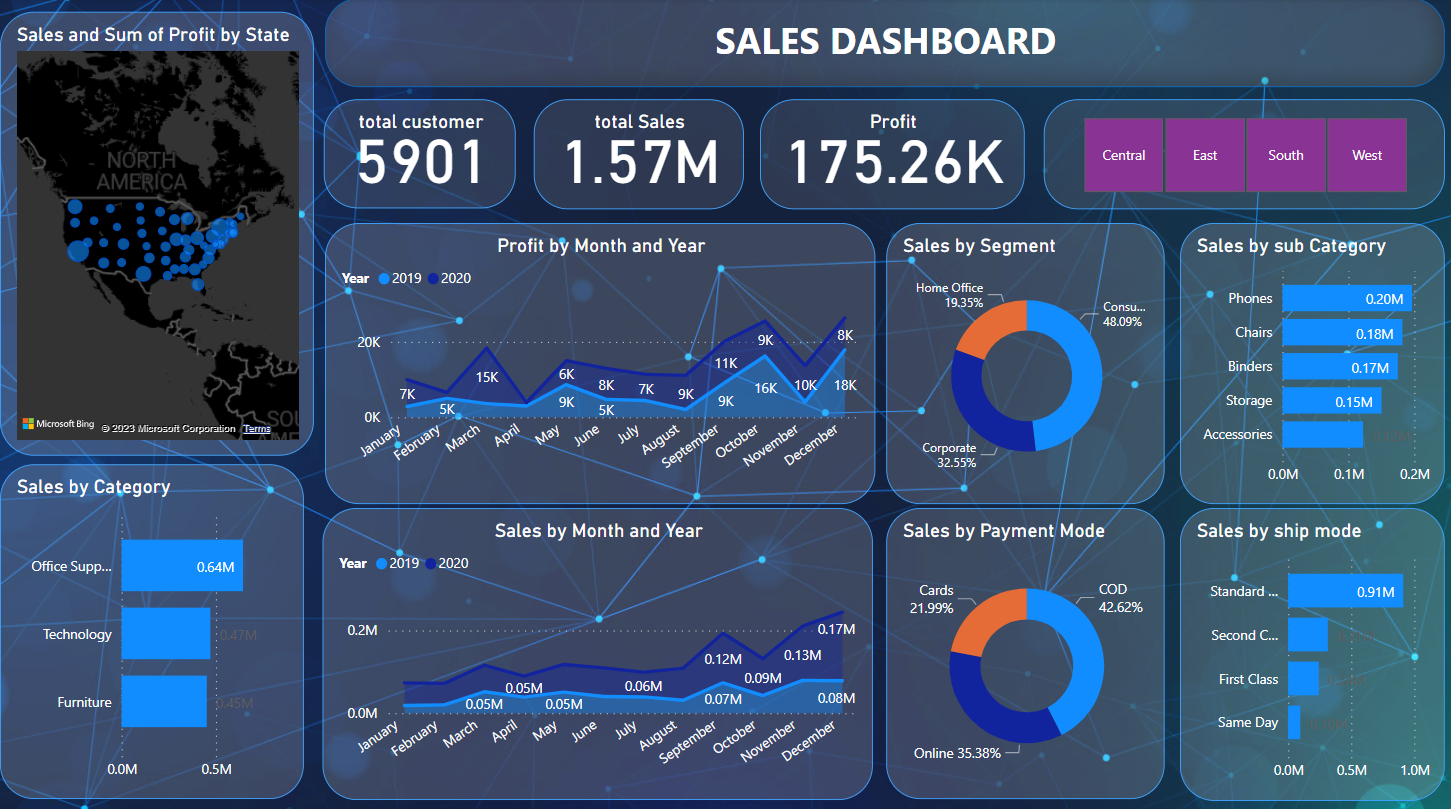

The page's visual inventory and layout, read from the dashboard file:
{"tool":"powerbi","page":{"name":"Page 1","canvas":[1280,720],"ordinal":0},"visuals":[{"type":"barChart","title":" Sales by Category","fields":{"Category":["SuperStore_Sales_Dataset.Category"],"Y":["Sum(SuperStore_Sales_Dataset.Sales)"]},"box":[0,410,267.1,294.6],"z":0},{"type":"barChart","title":" Sales by ship mode","fields":{"Category":["SuperStore_Sales_Dataset.Ship Mode"],"Y":["Sum(SuperStore_Sales_Dataset.Sales)"]},"box":[1037.7,448.5,233,257.2],"z":1000},{"type":"barChart","title":" Sales by sub Category","fields":{"Category":["SuperStore_Sales_Dataset.Sub-Category"],"Y":["Sum(SuperStore_Sales_Dataset.Sales)"]},"box":[1037.7,197.9,233,247.3],"z":2000},{"type":"stackedAreaChart","title":" Sales by Month and Year","fields":{"Y":["Sum(SuperStore_Sales_Dataset.Sales)"],"Category":["SuperStore_Sales_Dataset.Order Date.Variation.Date Hierarchy.Month"],"Series":["SuperStore_Sales_Dataset.Order Date.Variation.Date Hierarchy.Year"]},"box":[284,448.7,484.4,256.6],"z":3000},{"type":"stackedAreaChart","title":" Profit by Month and Year","fields":{"Category":["SuperStore_Sales_Dataset.Order Date.Variation.Date Hierarchy.Month"],"Series":["SuperStore_Sales_Dataset.Order Date.Variation.Date Hierarchy.Year"],"Y":["Sum(SuperStore_Sales_Dataset.Profit)"]},"box":[285.4,197.6,484.4,247],"z":4000},{"type":"map","title":" Sales and Sum of Profit by State","fields":{"Category":["SuperStore_Sales_Dataset.State"],"Size":["Sum(SuperStore_Sales_Dataset.Sales)"]},"box":[0,12.1,275.9,390.2],"z":5000},{"type":"donutChart","title":" Sales by Segment","fields":{"Category":["SuperStore_Sales_Dataset.Segment"],"Y":["Sum(SuperStore_Sales_Dataset.Sales)"]},"box":[779.4,197.9,245.1,247.3],"z":6000},{"type":"donutChart","title":" Sales by Payment Mode","fields":{"Category":["SuperStore_Sales_Dataset.Payment Mode"],"Y":["Sum(SuperStore_Sales_Dataset.Sales)"]},"box":[779.4,448.5,245.1,256.1],"z":7000},{"type":"slicer","fields":{"Values":["SuperStore_Sales_Dataset.Region"]},"box":[917.9,89,352.9,96.7],"z":8000},{"type":"card","title":"total  customer","fields":{"Values":["CountNonNull(SuperStore_Sales_Dataset.Customer ID)"]},"box":[284.4,89.3,169,96.4],"z":9000},{"type":"card","title":"Profit","fields":{"Values":["Sum(SuperStore_Sales_Dataset.Profit)"]},"box":[668.3,89,233,96.7],"z":10000},{"type":"card","title":"total  Sales","fields":{"Values":["Sum(SuperStore_Sales_Dataset.Sales)"]},"box":[469.4,89,184.7,96.7],"z":11000},{"type":"textbox","box":[285.8,0,984.9,78],"z":12000}]}

Visuals, with their boxes in screenshot pixels (x1, y1, x2, y2), scaled from the page's 1280x720 canvas onto the 1451x809 screenshot:
" Sales by Category" barChart: [x1=0, y1=461, x2=303, y2=792]
" Sales by ship mode" barChart: [x1=1176, y1=504, x2=1440, y2=793]
" Sales by sub Category" barChart: [x1=1176, y1=222, x2=1440, y2=500]
" Sales by Month and Year" stackedAreaChart: [x1=322, y1=504, x2=871, y2=792]
" Profit by Month and Year" stackedAreaChart: [x1=324, y1=222, x2=873, y2=500]
" Sales and Sum of Profit by State" map: [x1=0, y1=14, x2=313, y2=452]
" Sales by Segment" donutChart: [x1=884, y1=222, x2=1161, y2=500]
" Sales by Payment Mode" donutChart: [x1=884, y1=504, x2=1161, y2=792]
slicer - SuperStore_Sales_Dataset.Region: [x1=1041, y1=100, x2=1441, y2=209]
"total  customer" card: [x1=322, y1=100, x2=514, y2=209]
"Profit" card: [x1=758, y1=100, x2=1022, y2=209]
"total  Sales" card: [x1=532, y1=100, x2=741, y2=209]
textbox: [x1=324, y1=0, x2=1440, y2=88]
